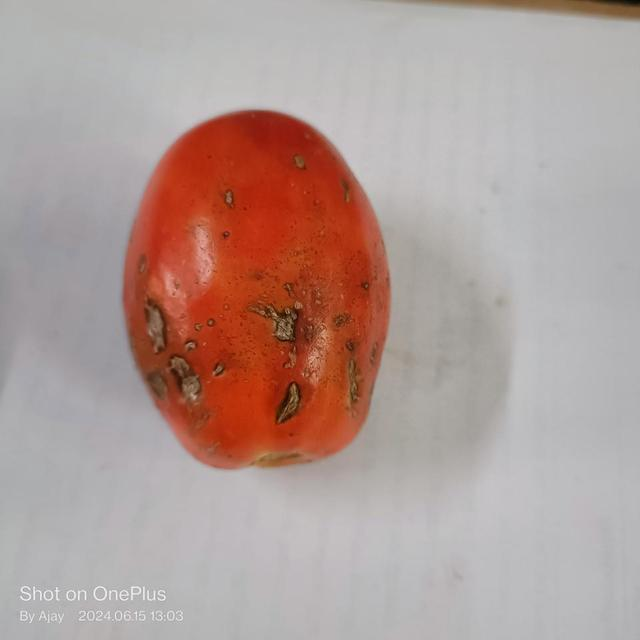Bacterial Spot Fruit: (4, 4, 235, 269)
